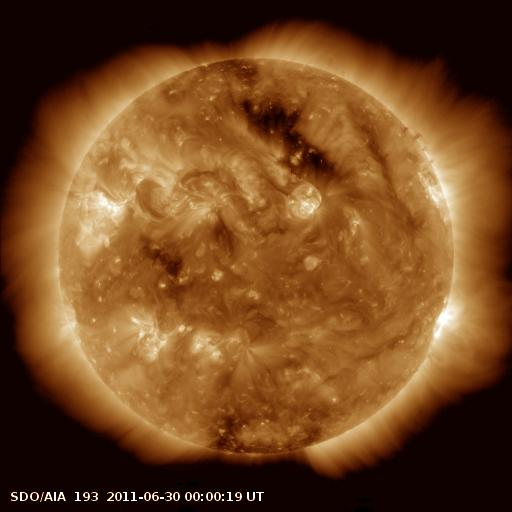coronal_hole: (235, 91, 345, 187)
